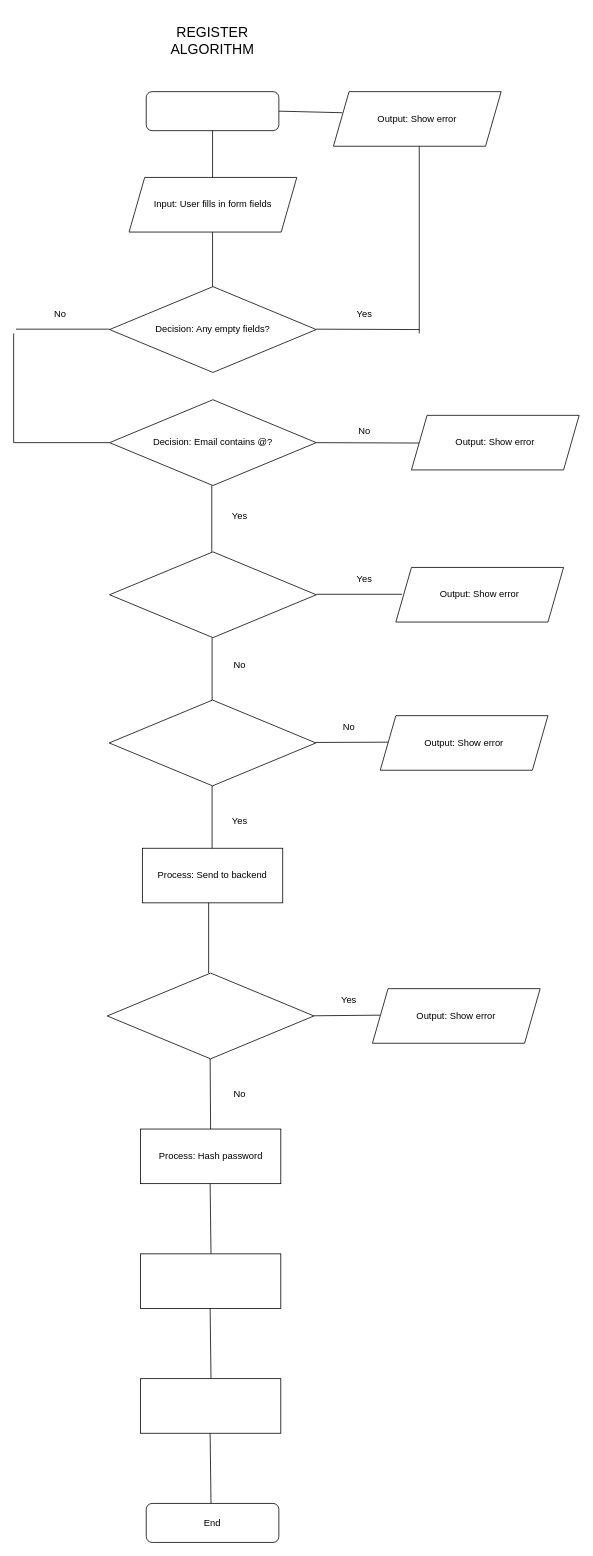
Image size: 593x1556. Some labels were removed from this diagram. The shapes that lost their labels are listed below. From the top down, each one's centre as x and y in pixels, then its label:
At [212,111]: "Start".
At [212,594]: "Decision: Password less than 6 characters?".
At [212,742]: "Decision: Do Passwords Match?".
At [210,1015]: "Decision: Does email already exist in database?".
At [210,1280]: "Process: Save to Database".
At [210,1405]: "Process: Create Session".
